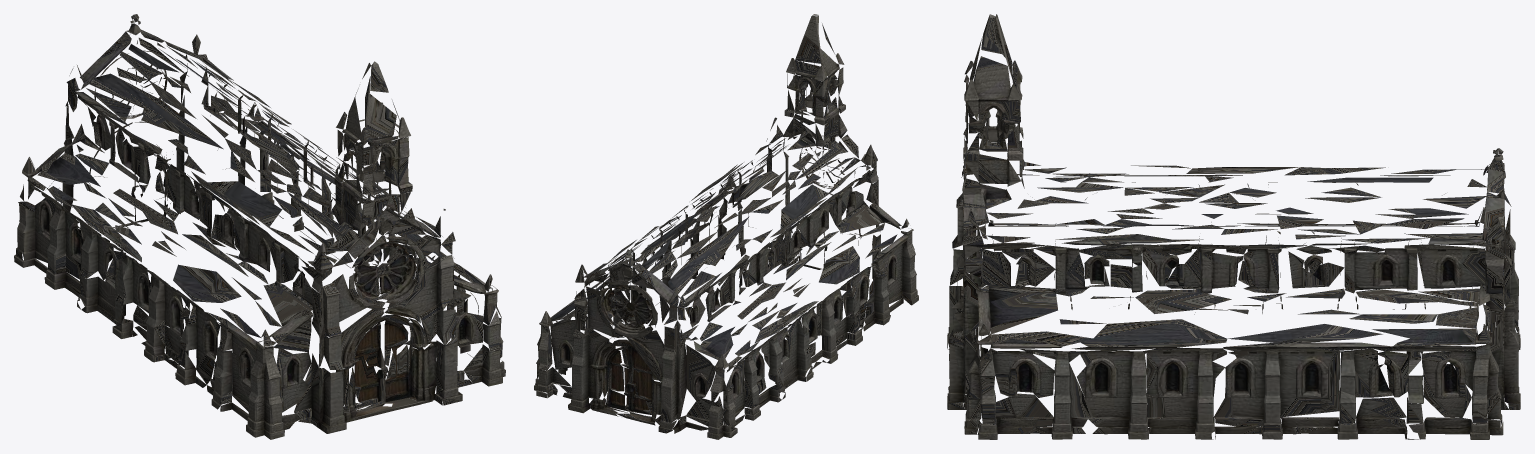
File: bld_cathedral_a_LOD1.glb
3 renders of one model, left to right at view 1: azimuth 30°, elevation 25°; view 2: azimuth 150°, elevation 25°; view 3: azimuth 270°, elevation 25°, orthographic. The views are drawn at different scales.
Visible parts, largest first — view 1: geometry_0; view 2: geometry_0; view 3: geometry_0.
Boxes of the visible parts, x1,y1,x2,y2 form: geometry_0: (14, 14, 505, 439); geometry_0: (534, 14, 918, 439); geometry_0: (947, 14, 1520, 439).
Bounding box in the file's own units: 14 × 18 × 25.99.
Materials: 1 (1 with a texture image).
